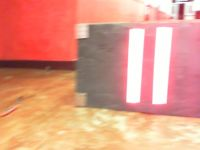switch: (125, 28, 146, 104), (152, 27, 172, 105)
